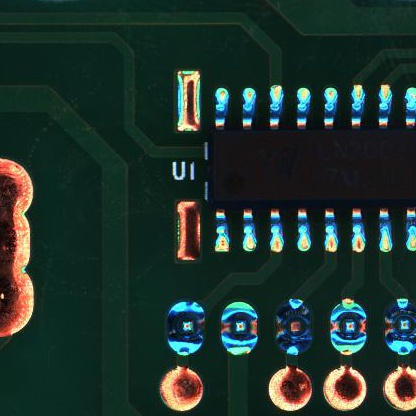spot: (328, 298, 368, 358), (273, 298, 313, 355), (219, 300, 258, 355), (166, 300, 202, 355), (383, 298, 415, 358)
